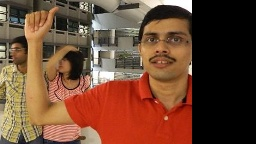Pugno: (17, 6, 62, 38)
